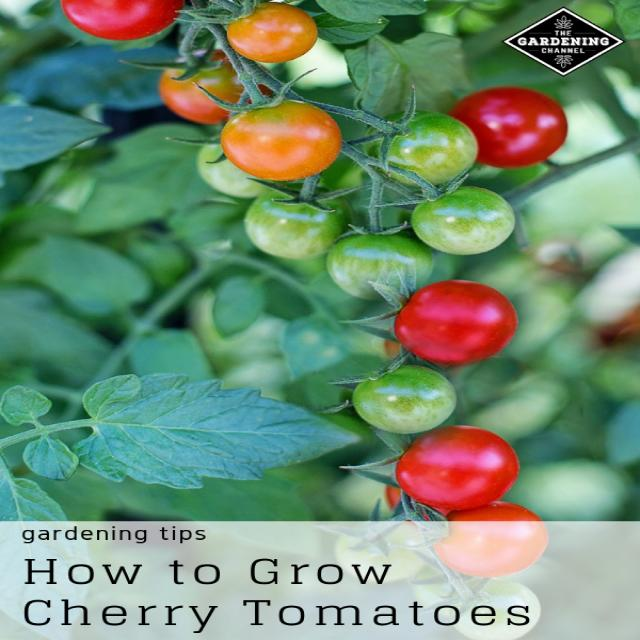level 2: (333, 229, 461, 303), (244, 186, 352, 263), (410, 182, 517, 259), (190, 128, 312, 195), (382, 109, 475, 182), (355, 364, 454, 432), (333, 518, 430, 581), (453, 580, 546, 634)
level 4: (226, 106, 336, 177), (226, 8, 318, 58)
level 5: (160, 54, 262, 133)
level 6: (391, 283, 522, 372), (393, 424, 519, 508), (455, 88, 568, 169), (436, 503, 546, 582), (58, 0, 188, 46)
